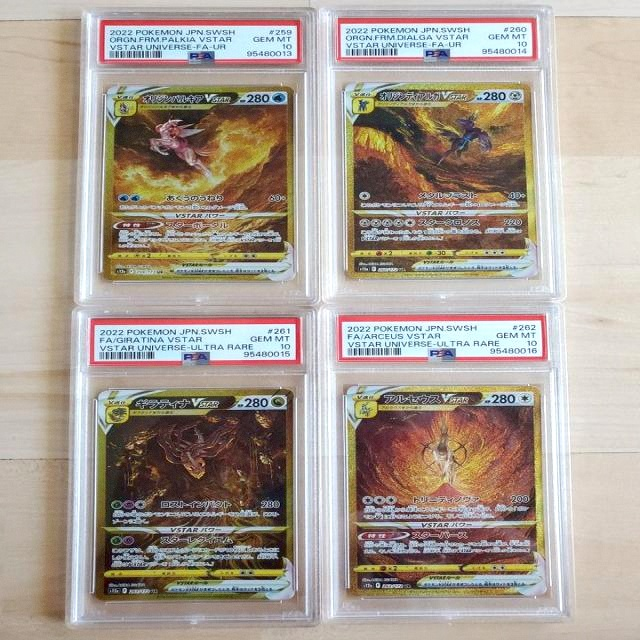card: (94, 388, 296, 601), (346, 385, 548, 597), (344, 82, 540, 279), (101, 85, 296, 282)
